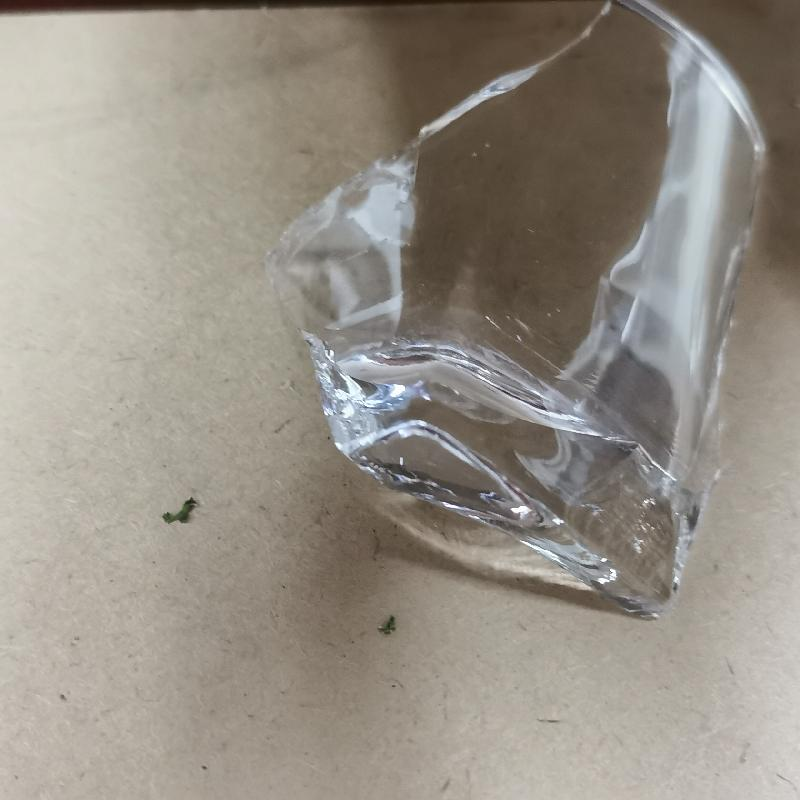glass: (262, 9, 794, 621)
